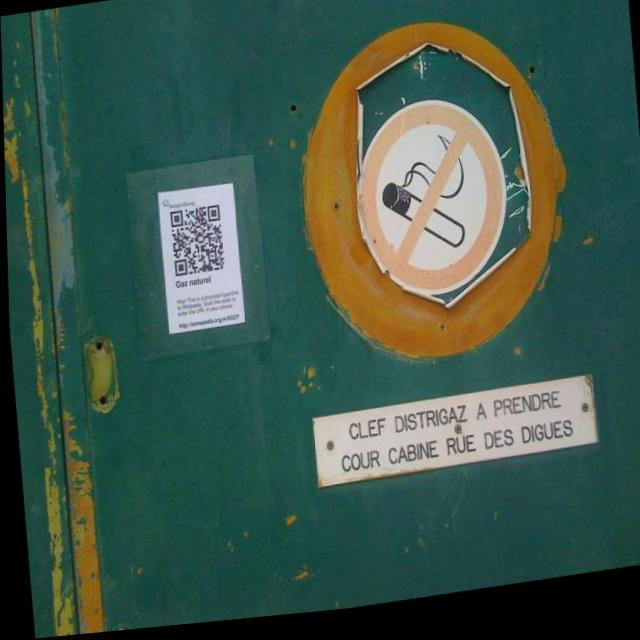qrcode: (170, 210, 224, 279)
